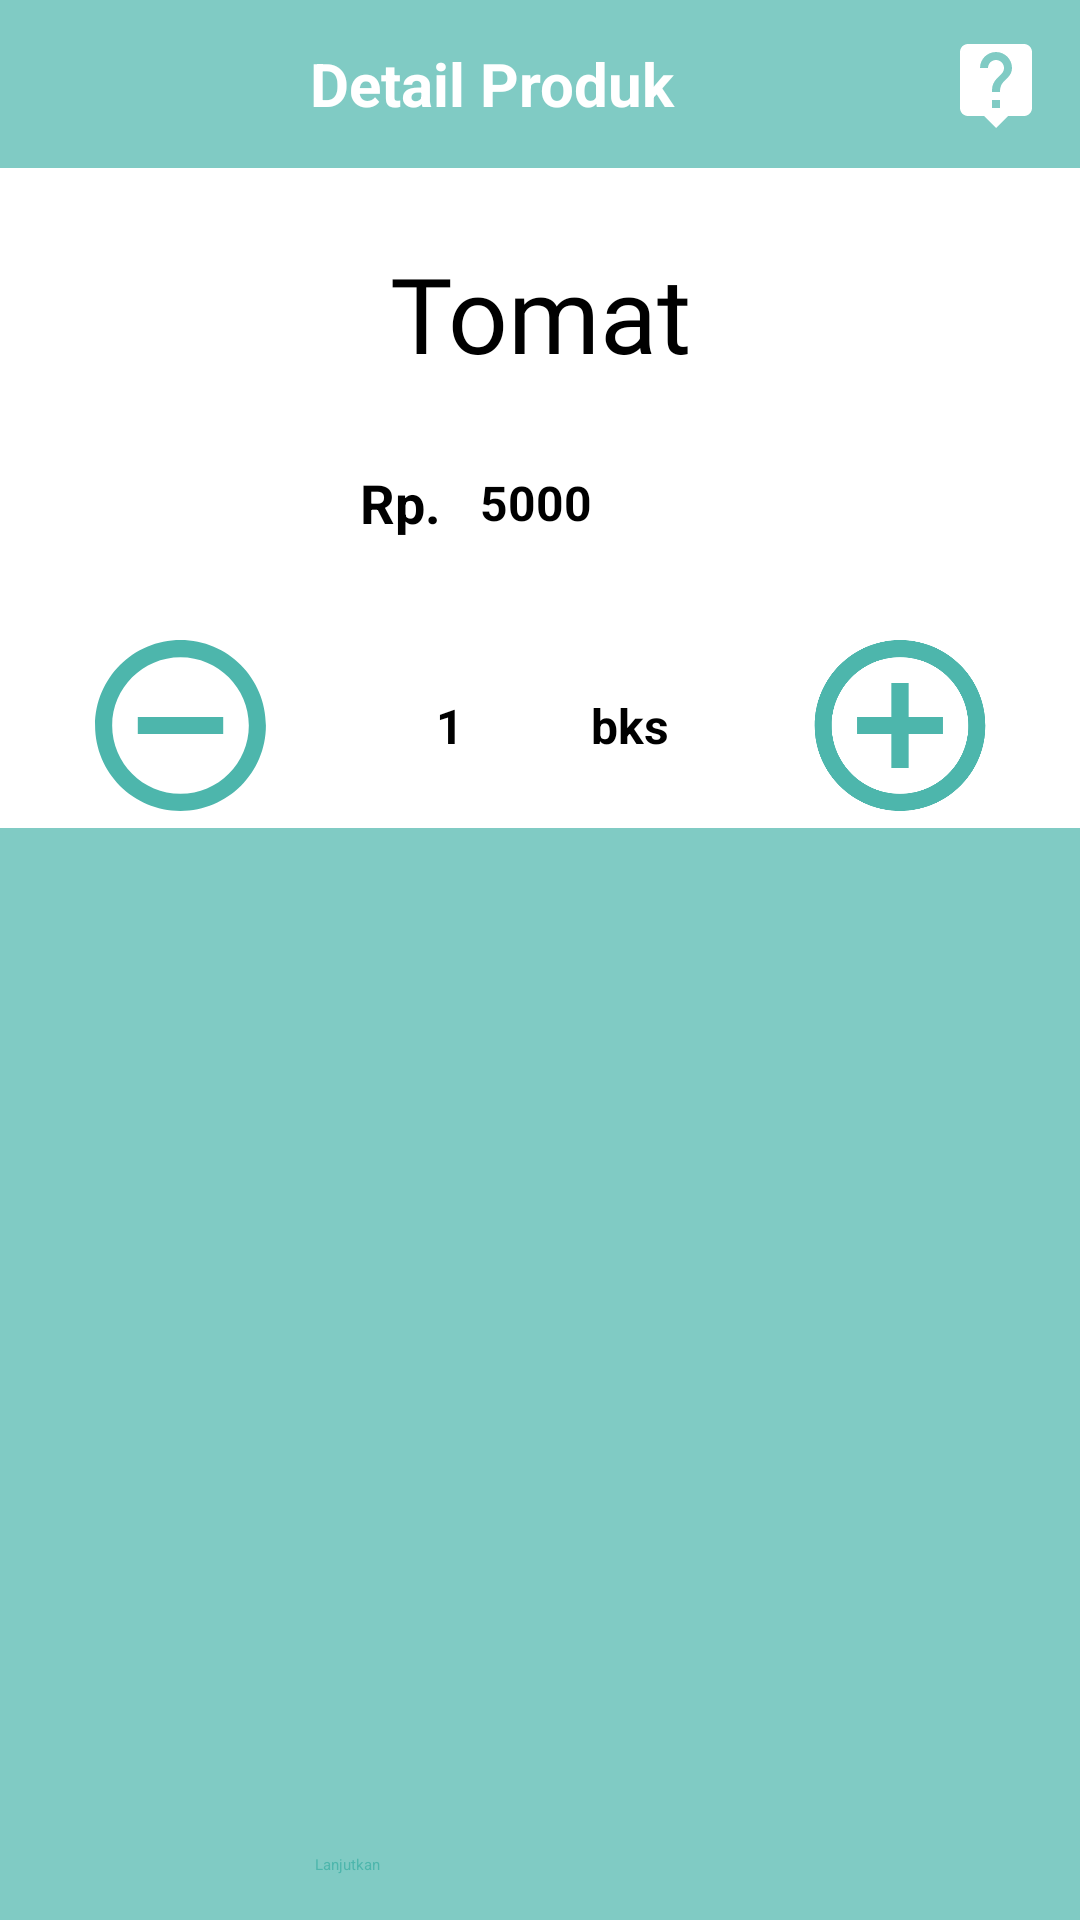

Named icons in this screenshot (1080px×1920px) and their centers, (x=x, y=y):
add circle: (x=900, y=725)
live help: (x=996, y=86)
remove circle: (x=180, y=725)
